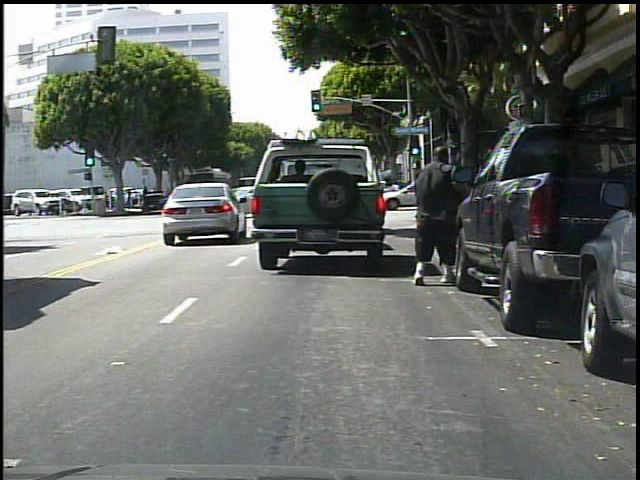person: (414, 143, 465, 287)
